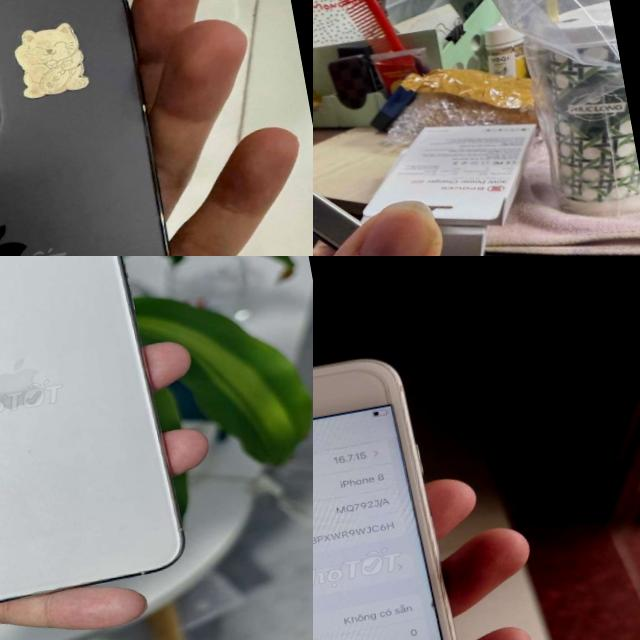gen_11: (0, 256, 200, 628)
gen_14: (0, 0, 239, 256)
gen_15: (313, 0, 638, 256)
gen_7_8: (313, 331, 504, 640)
